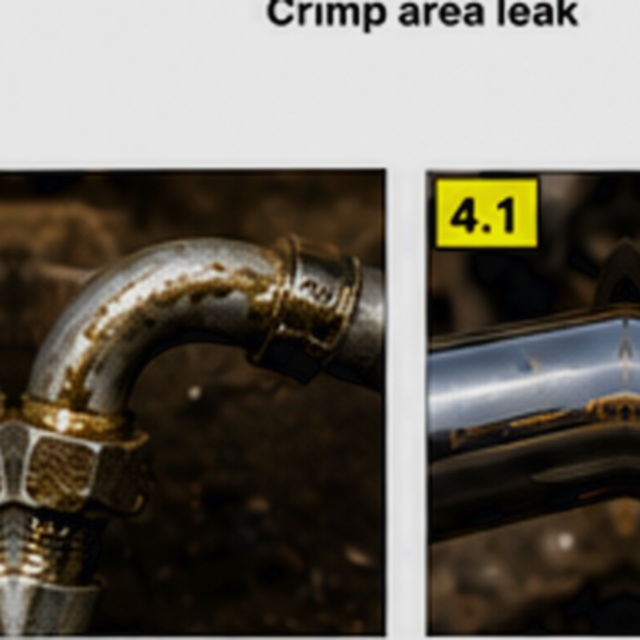hydraulic_oil_leak: (199, 250, 390, 453)
